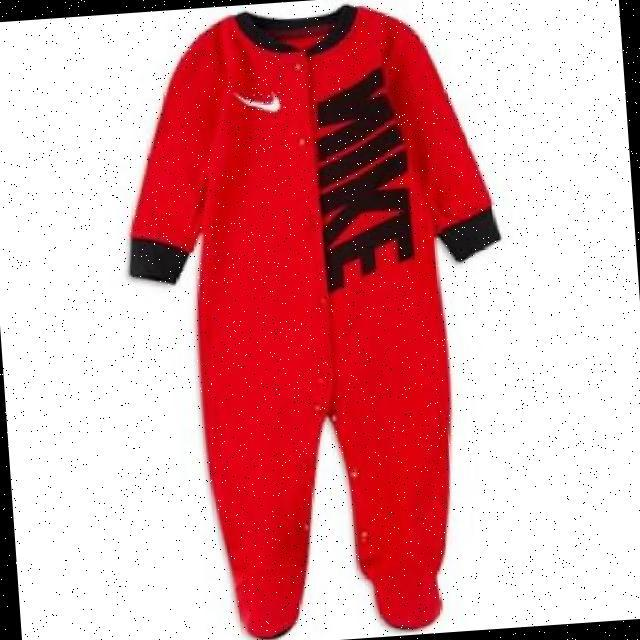Nike: (236, 88, 285, 111)
